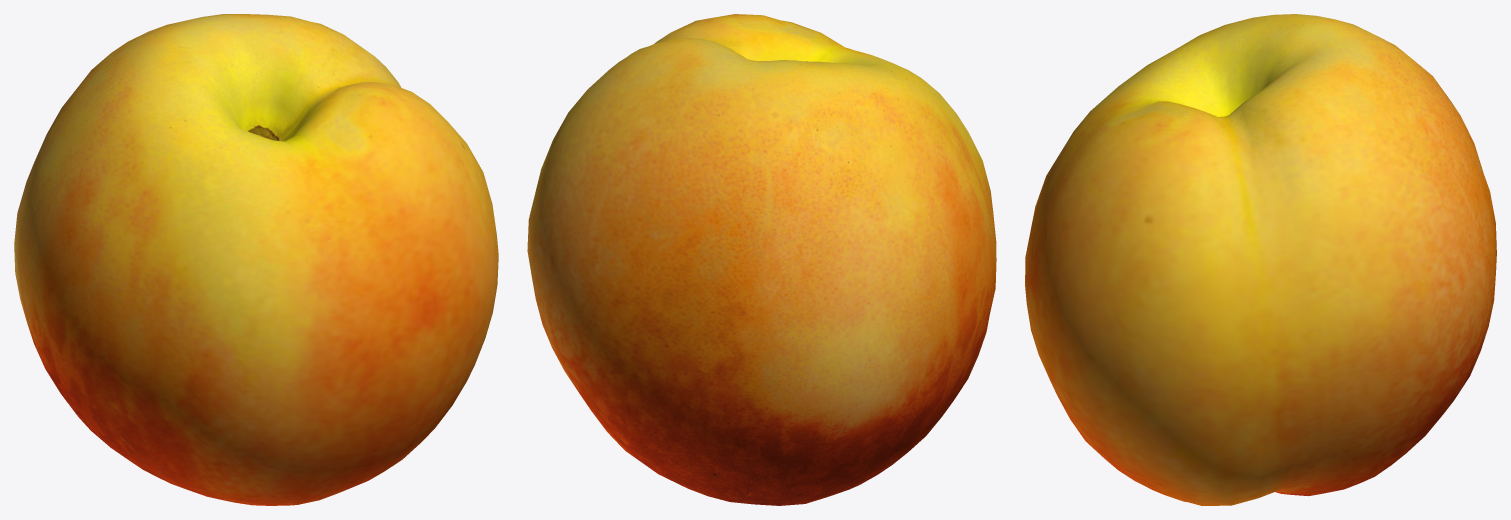
The model's file is OrangeFruitPeach.fbx.
3 views of the same model, side by side, from view 1: azimuth 30°, elevation 25°; view 2: azimuth 150°, elevation 25°; view 3: azimuth 270°, elevation 25° (orthographic). The views are drawn at different scales.
Visible parts, largest first — view 1: Peach; view 2: Peach; view 3: Peach.
Boxes of the visible parts, <box> form: Peach: <box>14,14,498,505</box>; Peach: <box>527,14,996,505</box>; Peach: <box>1025,14,1496,505</box>.
Bounding box in the file's own units: 0.0696 × 0.0699 × 0.0697.
Materials: 1 (1 with a texture image).
